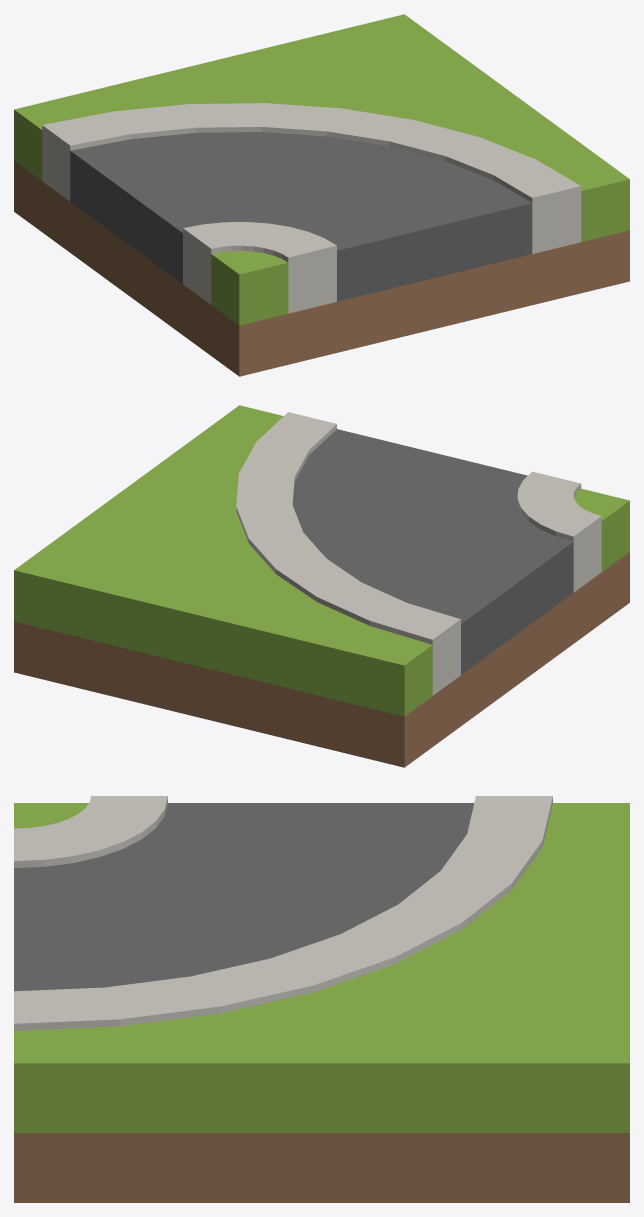
The model's file is road-corner-low.obj.
3 renders of one model, top to bottom at view 1: azimuth 30°, elevation 25°; view 2: azimuth 150°, elevation 25°; view 3: azimuth 270°, elevation 25°, orthographic. The views are drawn at different scales.
Parts seen in each view (by area): view 1: road-corner-low_Cube.127; view 2: road-corner-low_Cube.127; view 3: road-corner-low_Cube.127.
Part boxes in pixels (x1,y1,x2,y2): road-corner-low_Cube.127: [14, 14, 629, 376]; road-corner-low_Cube.127: [14, 405, 629, 767]; road-corner-low_Cube.127: [14, 796, 629, 1202].
Size of the model in its own units: 8 by 2.1 by 8.
Materials: 1 (1 with a texture image).
